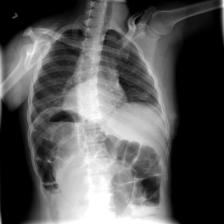normal: (24, 22, 170, 201)
